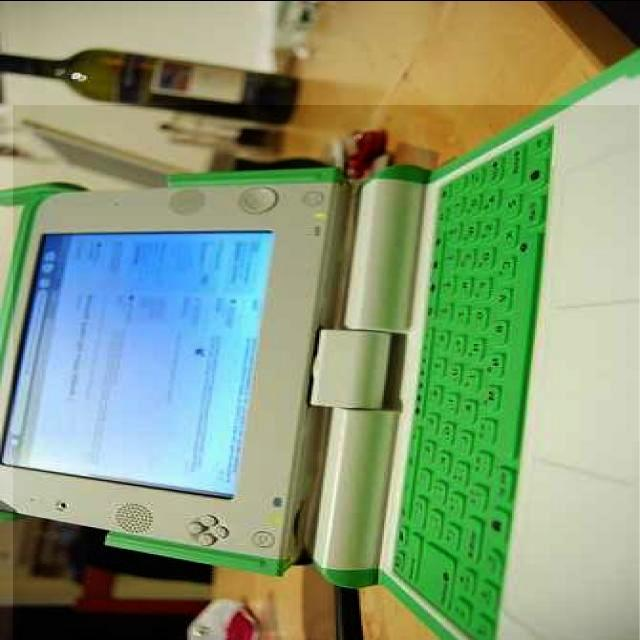-keyboard-: (13, 105, 639, 640)
